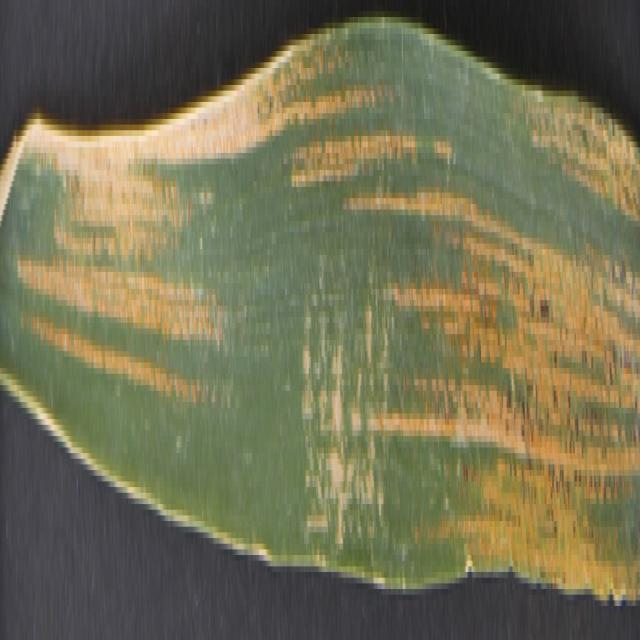leaf rust: (288, 45, 640, 594), (25, 142, 227, 448)
